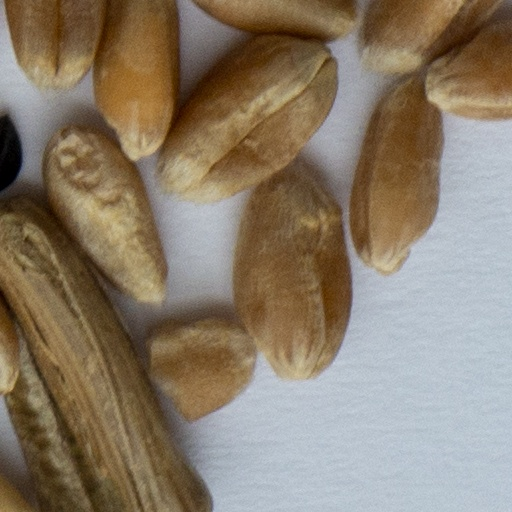Wheat-grain-damaged-poly: (143, 316, 257, 425)
